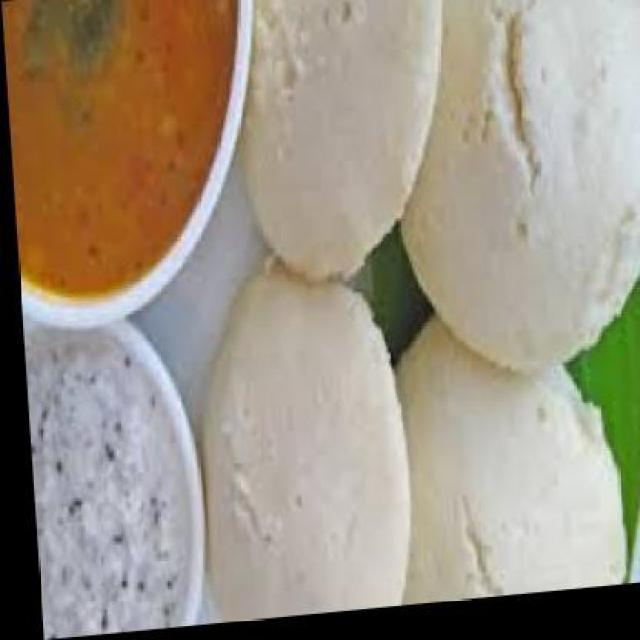idli: (381, 0, 640, 389), (182, 266, 408, 628), (377, 306, 618, 612), (229, 0, 456, 292)
